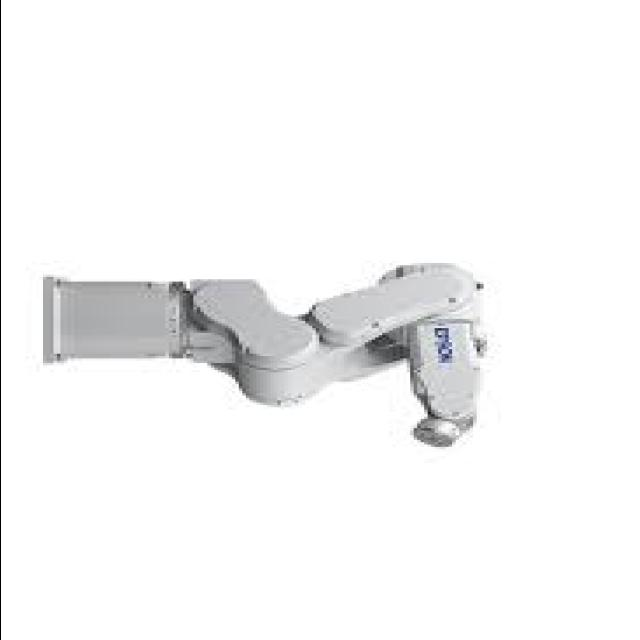Robotic-arm: (39, 256, 495, 450)
